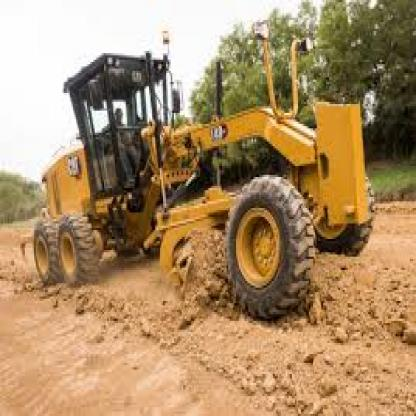bull_dozer/loader/grader: (19, 38, 385, 308)
